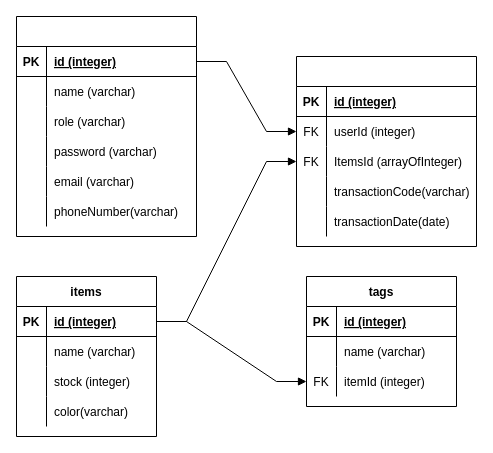
The diagram is 493 pixels wide and 453 high, and some of its shapes have lost their labels. The box of each missing label's shape, as (x1, y1, x2, y2) in pixels:
transactions: (296, 56, 476, 246)
users: (16, 16, 196, 236)
